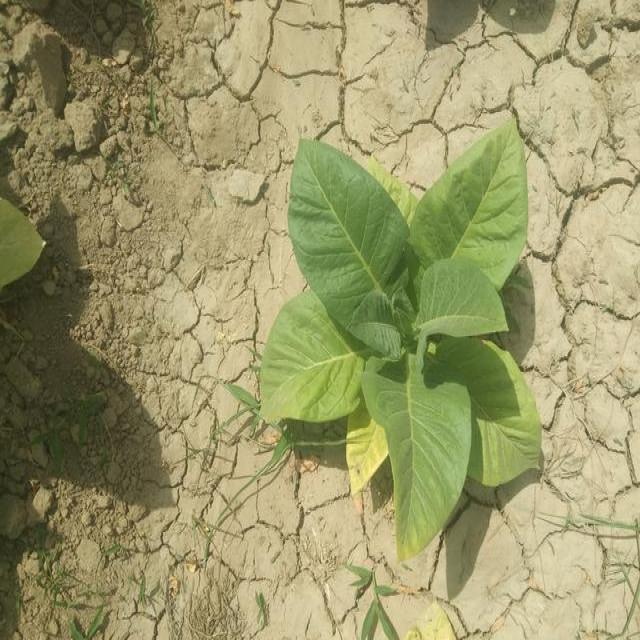crop: (256, 127, 552, 543), (0, 191, 44, 297)
